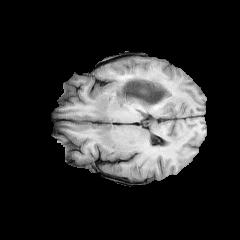glioma: (102, 76, 168, 159)
